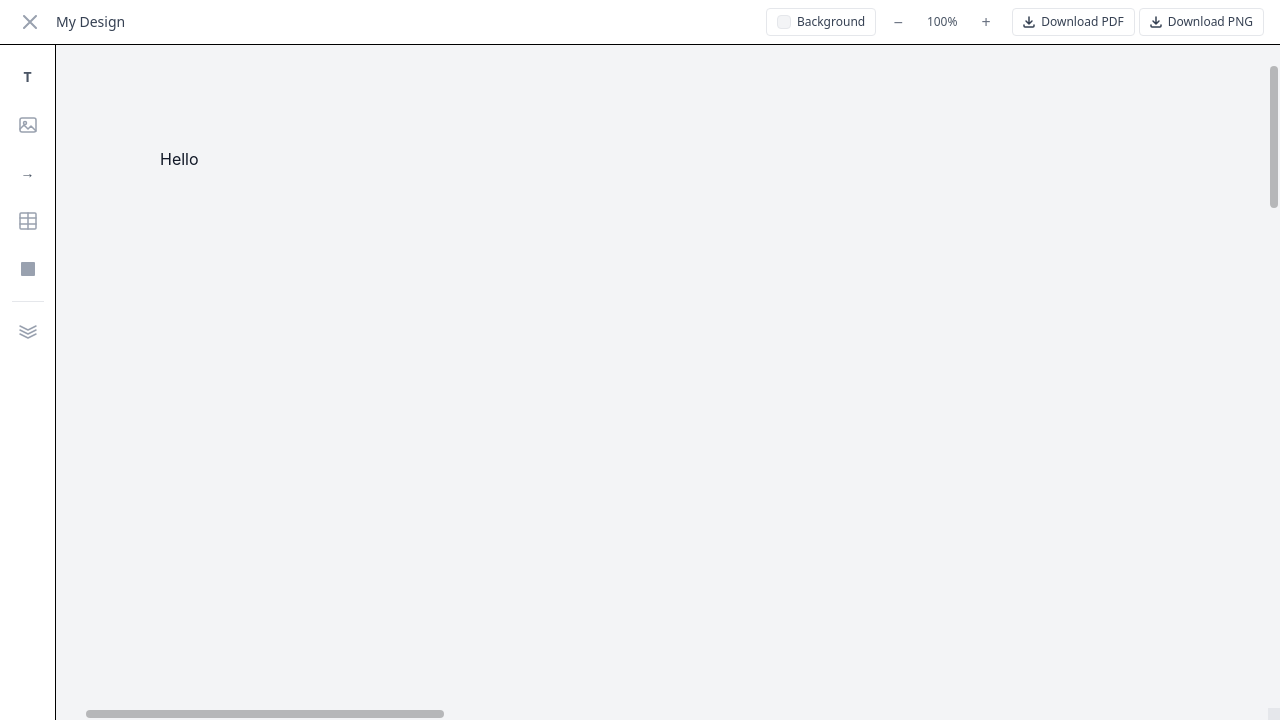
Scenario: AC8 — in-progress state › disables the button while the export is in progress
Click the button "Download PNG": [1201, 22] box left=1139, top=8, right=1264, bottom=36
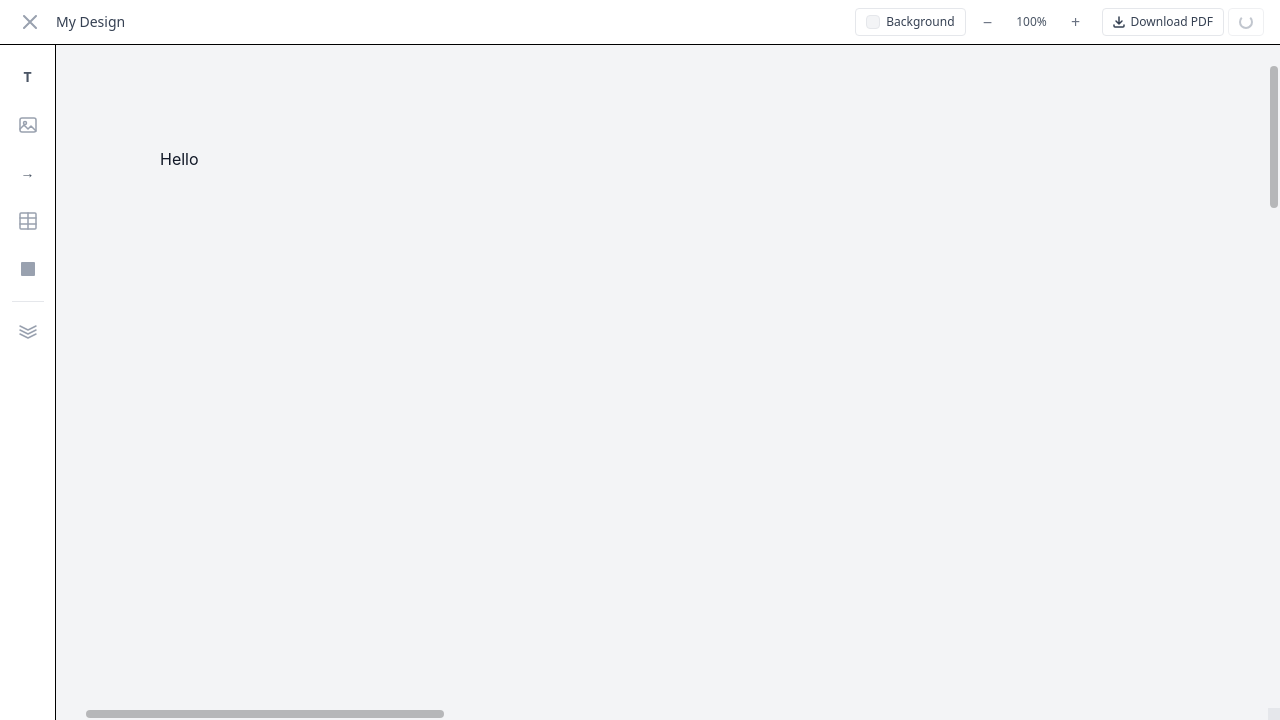
Expected: the button named "download png" is disabled, left=1228, top=8, right=1264, bottom=36
